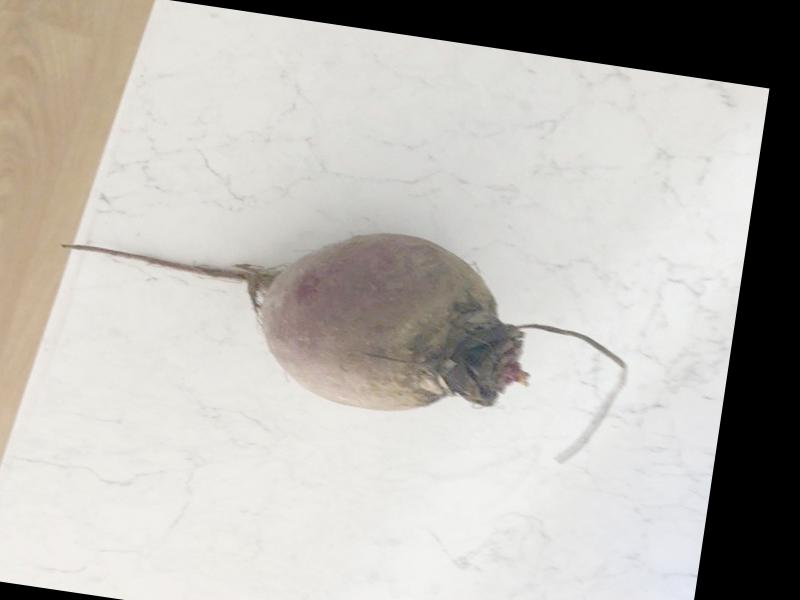Beet: (39, 185, 639, 469)
